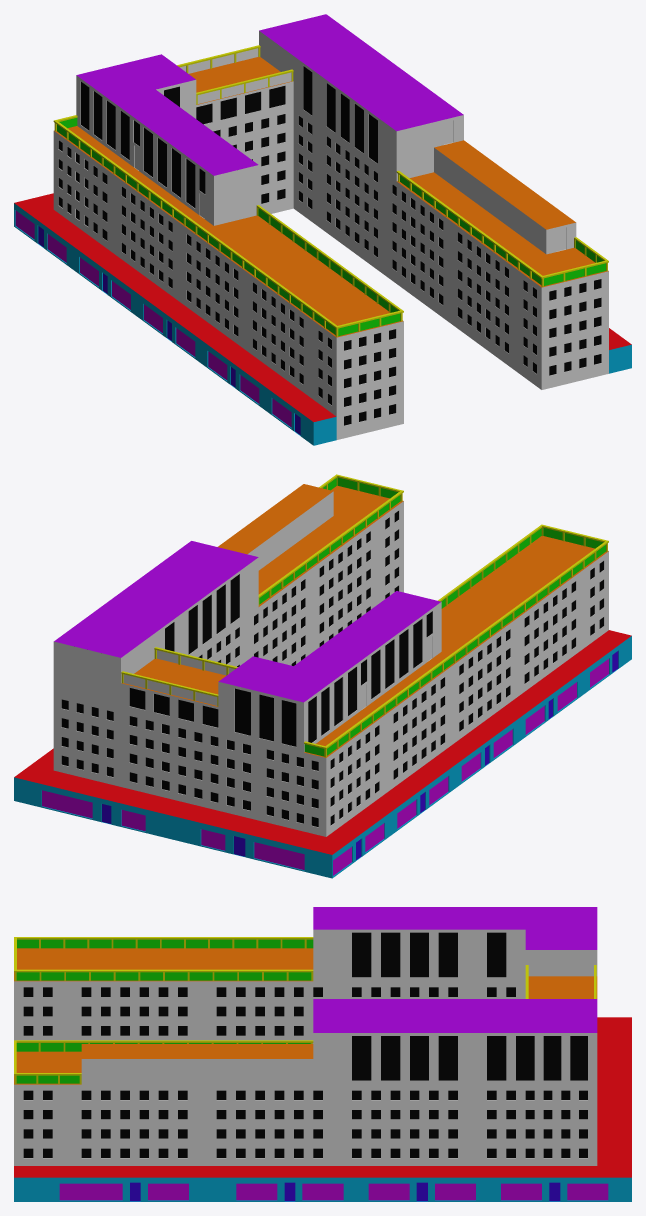
File: hrus  u  1VID.fbx
3 renders of one model, top to bottom at view 1: azimuth 30°, elevation 25°; view 2: azimuth 150°, elevation 25°; view 3: azimuth 270°, elevation 25°, orthographic. The views are drawn at different scales.
Parts seen in each view (by area): view 1: Плоскость.043, Плоскость.001; view 2: Плоскость.043, Плоскость.001; view 3: Плоскость.043, Плоскость.001.
Part boxes in pixels (box(x1,y1,x2,y2)): Плоскость.043: box(14, 14, 631, 445); Плоскость.001: box(57, 48, 605, 336); Плоскость.043: box(14, 474, 631, 878); Плоскость.001: box(123, 477, 605, 756); Плоскость.043: box(14, 907, 631, 1201); Плоскость.001: box(16, 939, 313, 1083).
Size of the model in its own units: 7587 by 3476 by 12372.
